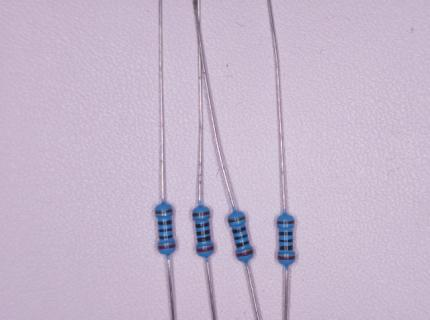Black band: (236, 240, 250, 249), (232, 226, 247, 234), (195, 222, 210, 229), (197, 236, 211, 243), (234, 234, 248, 241), (158, 220, 173, 226), (159, 234, 174, 240), (196, 230, 211, 236), (158, 228, 173, 233), (279, 239, 294, 243), (278, 232, 293, 236), (280, 246, 293, 250)
Brown band: (228, 216, 246, 223), (192, 211, 211, 217), (155, 209, 173, 215), (277, 221, 295, 225)
Red band: (236, 250, 254, 258), (196, 246, 215, 253), (158, 244, 176, 250), (277, 256, 296, 261)
